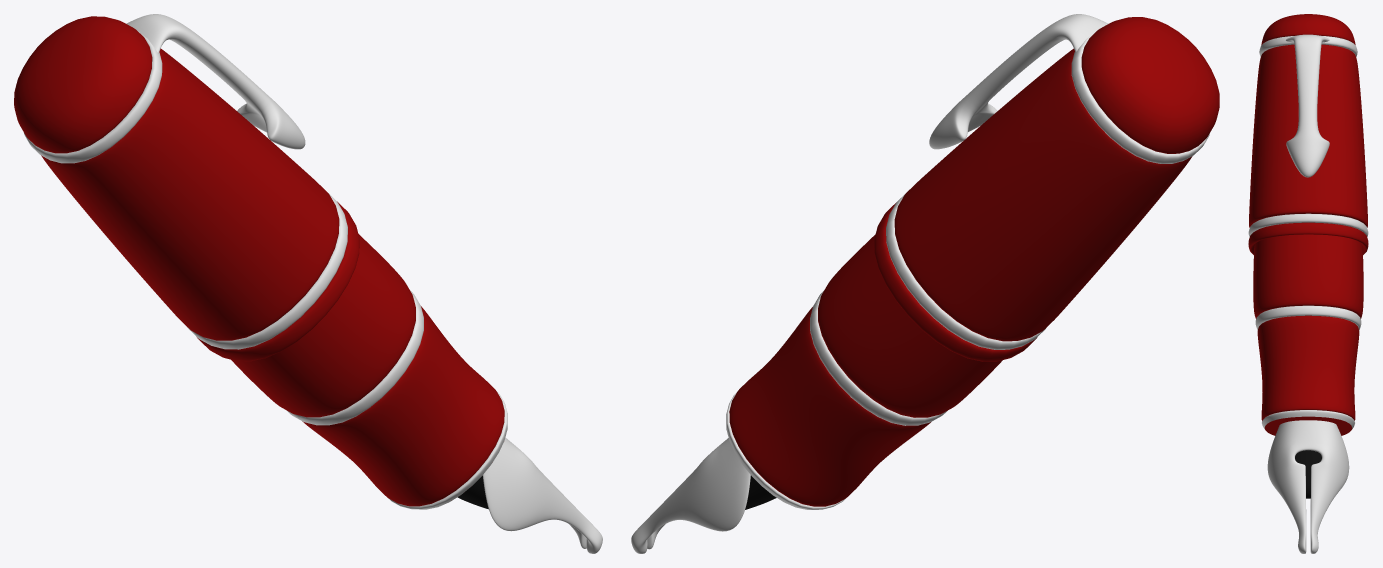
File: pen.glb
3 views of the same model, side by side, from view 1: azimuth 30°, elevation 25°; view 2: azimuth 150°, elevation 25°; view 3: azimuth 270°, elevation 25° (orthographic). The views are drawn at different scales.
Visible parts, largest first — view 1: Object006_red plastic_0, Object005_red plastic_0, Object001_Stainless_Steel_0, Object004_Stainless_Steel_0, Object003_Stainless_Steel_0, pen 2; view 2: Object006_red plastic_0, Object005_red plastic_0, Object001_Stainless_Steel_0, Object004_Stainless_Steel_0, Object003_Stainless_Steel_0, pen 2; view 3: Object006_red plastic_0, Object005_red plastic_0, Object001_Stainless_Steel_0, Object004_Stainless_Steel_0, pen 2, Object003_Stainless_Steel_0, Object002_black plastic_0.
Part boxes in pixels (left/top/right/bottom): Object006_red plastic_0: left=14, top=16, right=359, bottom=361; Object005_red plastic_0: left=231, top=234, right=504, bottom=506; Object001_Stainless_Steel_0: left=482, top=437, right=602, bottom=553; Object004_Stainless_Steel_0: left=126, top=14, right=305, bottom=149; Object003_Stainless_Steel_0: left=24, top=31, right=347, bottom=349; pen 2: left=286, top=290, right=507, bottom=509; Object006_red plastic_0: left=874, top=17, right=1219, bottom=361; Object005_red plastic_0: left=729, top=234, right=1002, bottom=506; Object001_Stainless_Steel_0: left=631, top=438, right=750, bottom=553; Object004_Stainless_Steel_0: left=929, top=14, right=1108, bottom=149; Object003_Stainless_Steel_0: left=886, top=32, right=1209, bottom=349; pen 2: left=726, top=291, right=946, bottom=509; Object006_red plastic_0: left=1248, top=14, right=1368, bottom=254; Object005_red plastic_0: left=1253, top=234, right=1363, bottom=435; Object001_Stainless_Steel_0: left=1267, top=420, right=1349, bottom=553; Object004_Stainless_Steel_0: left=1286, top=34, right=1329, bottom=177; pen 2: left=1255, top=305, right=1361, bottom=429; Object003_Stainless_Steel_0: left=1248, top=36, right=1368, bottom=236; Object002_black plastic_0: left=1295, top=450, right=1321, bottom=498.
Bounding box in the file's own units: 0.6484 × 0.6967 × 0.1925.
